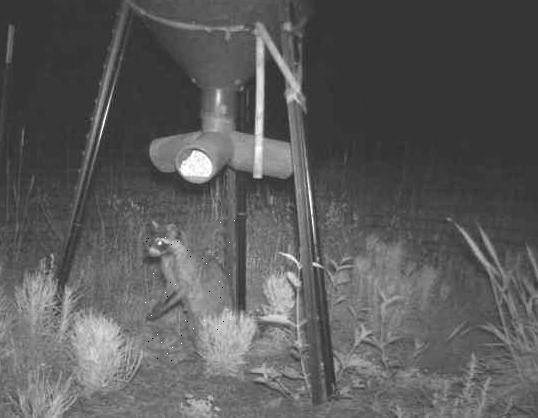Raccoon: (144, 219, 238, 361)
